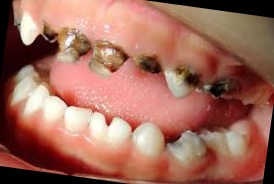Caries: (32, 16, 133, 83), (164, 58, 209, 96), (201, 70, 243, 103), (128, 49, 168, 79)
